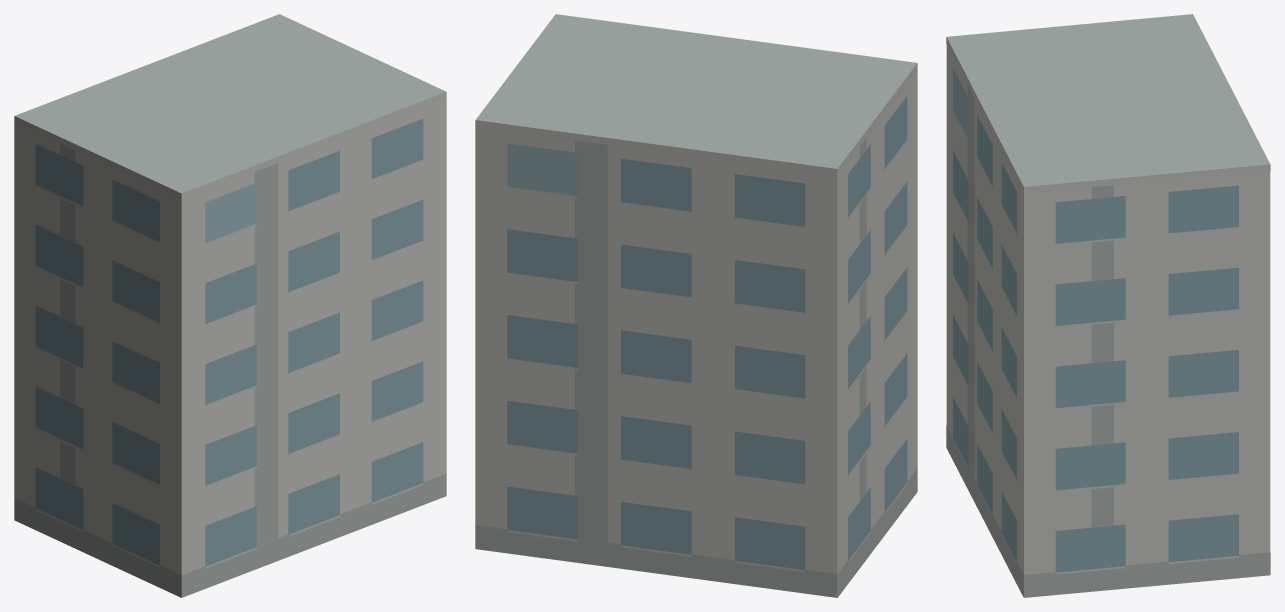
Rendered from residential-842fe6ae-11a5-4fe1-bcab-78d91542f8b5.glb.
The picture shows the model from 3 angles, left to right: view 1: azimuth 30°, elevation 25°; view 2: azimuth 150°, elevation 25°; view 3: azimuth 270°, elevation 25°; orthographic projection. The views are drawn at different scales.
Visible parts, largest first — view 1: residential-842fe6ae-11a5-4fe1-bcab-78d91542f8b5.tmp; view 2: residential-842fe6ae-11a5-4fe1-bcab-78d91542f8b5.tmp; view 3: residential-842fe6ae-11a5-4fe1-bcab-78d91542f8b5.tmp.
Boxes of the visible parts, x1=… form: residential-842fe6ae-11a5-4fe1-bcab-78d91542f8b5.tmp: x1=14, y1=14, x2=446, y2=597; residential-842fe6ae-11a5-4fe1-bcab-78d91542f8b5.tmp: x1=475, y1=14, x2=917, y2=597; residential-842fe6ae-11a5-4fe1-bcab-78d91542f8b5.tmp: x1=946, y1=14, x2=1270, y2=597.
Size of the model in its own units: 13.78 by 15.25 by 10.91.
